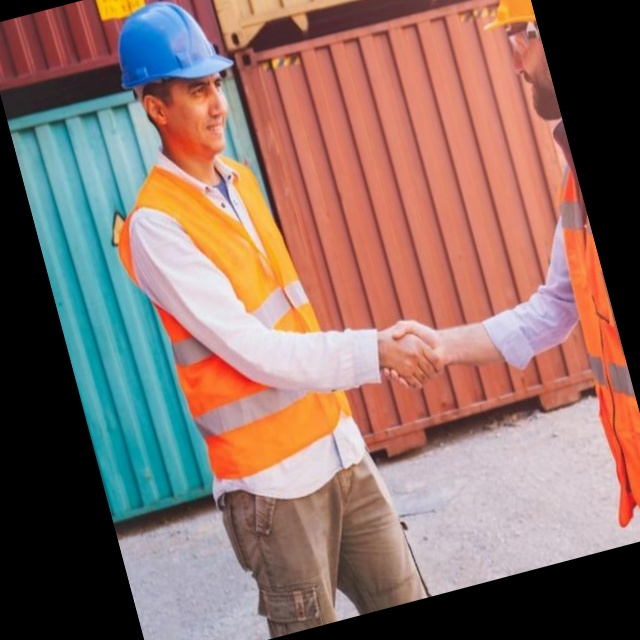Con_Casco: (104, 0, 255, 167)
Con_Chaleco: (101, 129, 363, 485)
